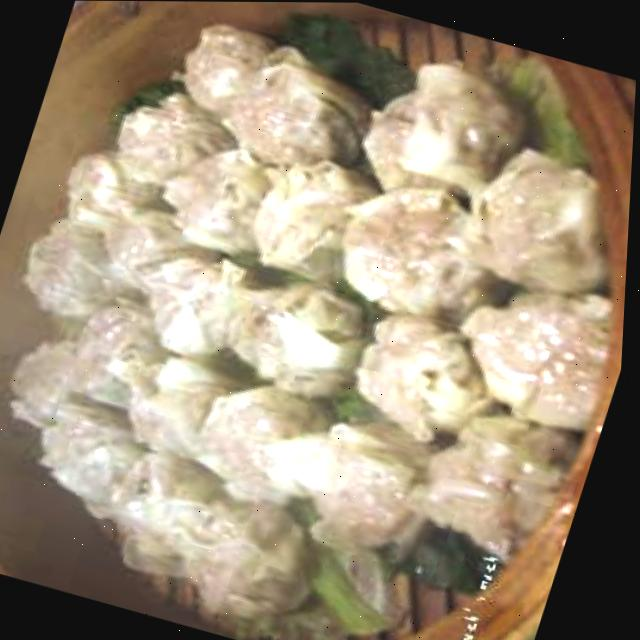带馅早点: (43, 0, 537, 583)
